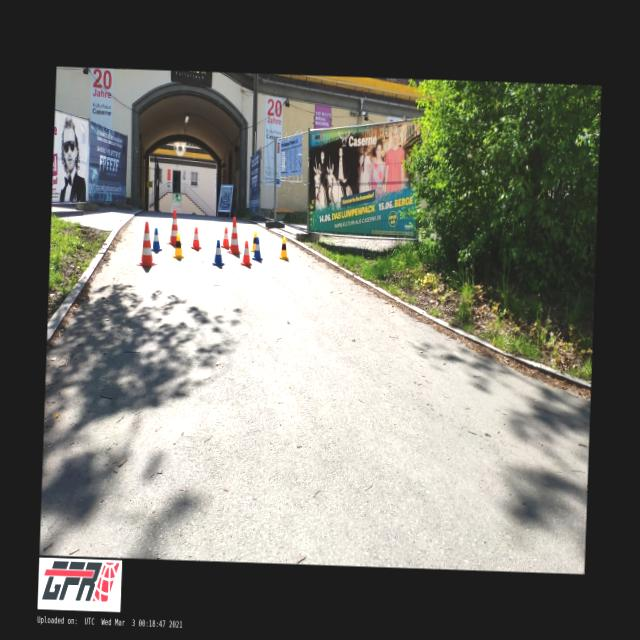blue_cone: (212, 240, 226, 265), (150, 228, 163, 251), (252, 237, 262, 260)
large_orange_cone: (136, 221, 158, 266), (166, 209, 183, 245), (226, 216, 242, 254)
orange_cone: (240, 240, 252, 266), (191, 226, 202, 248), (220, 226, 230, 248)
yellow_cone: (172, 232, 186, 258), (278, 236, 289, 259), (250, 230, 257, 252)
